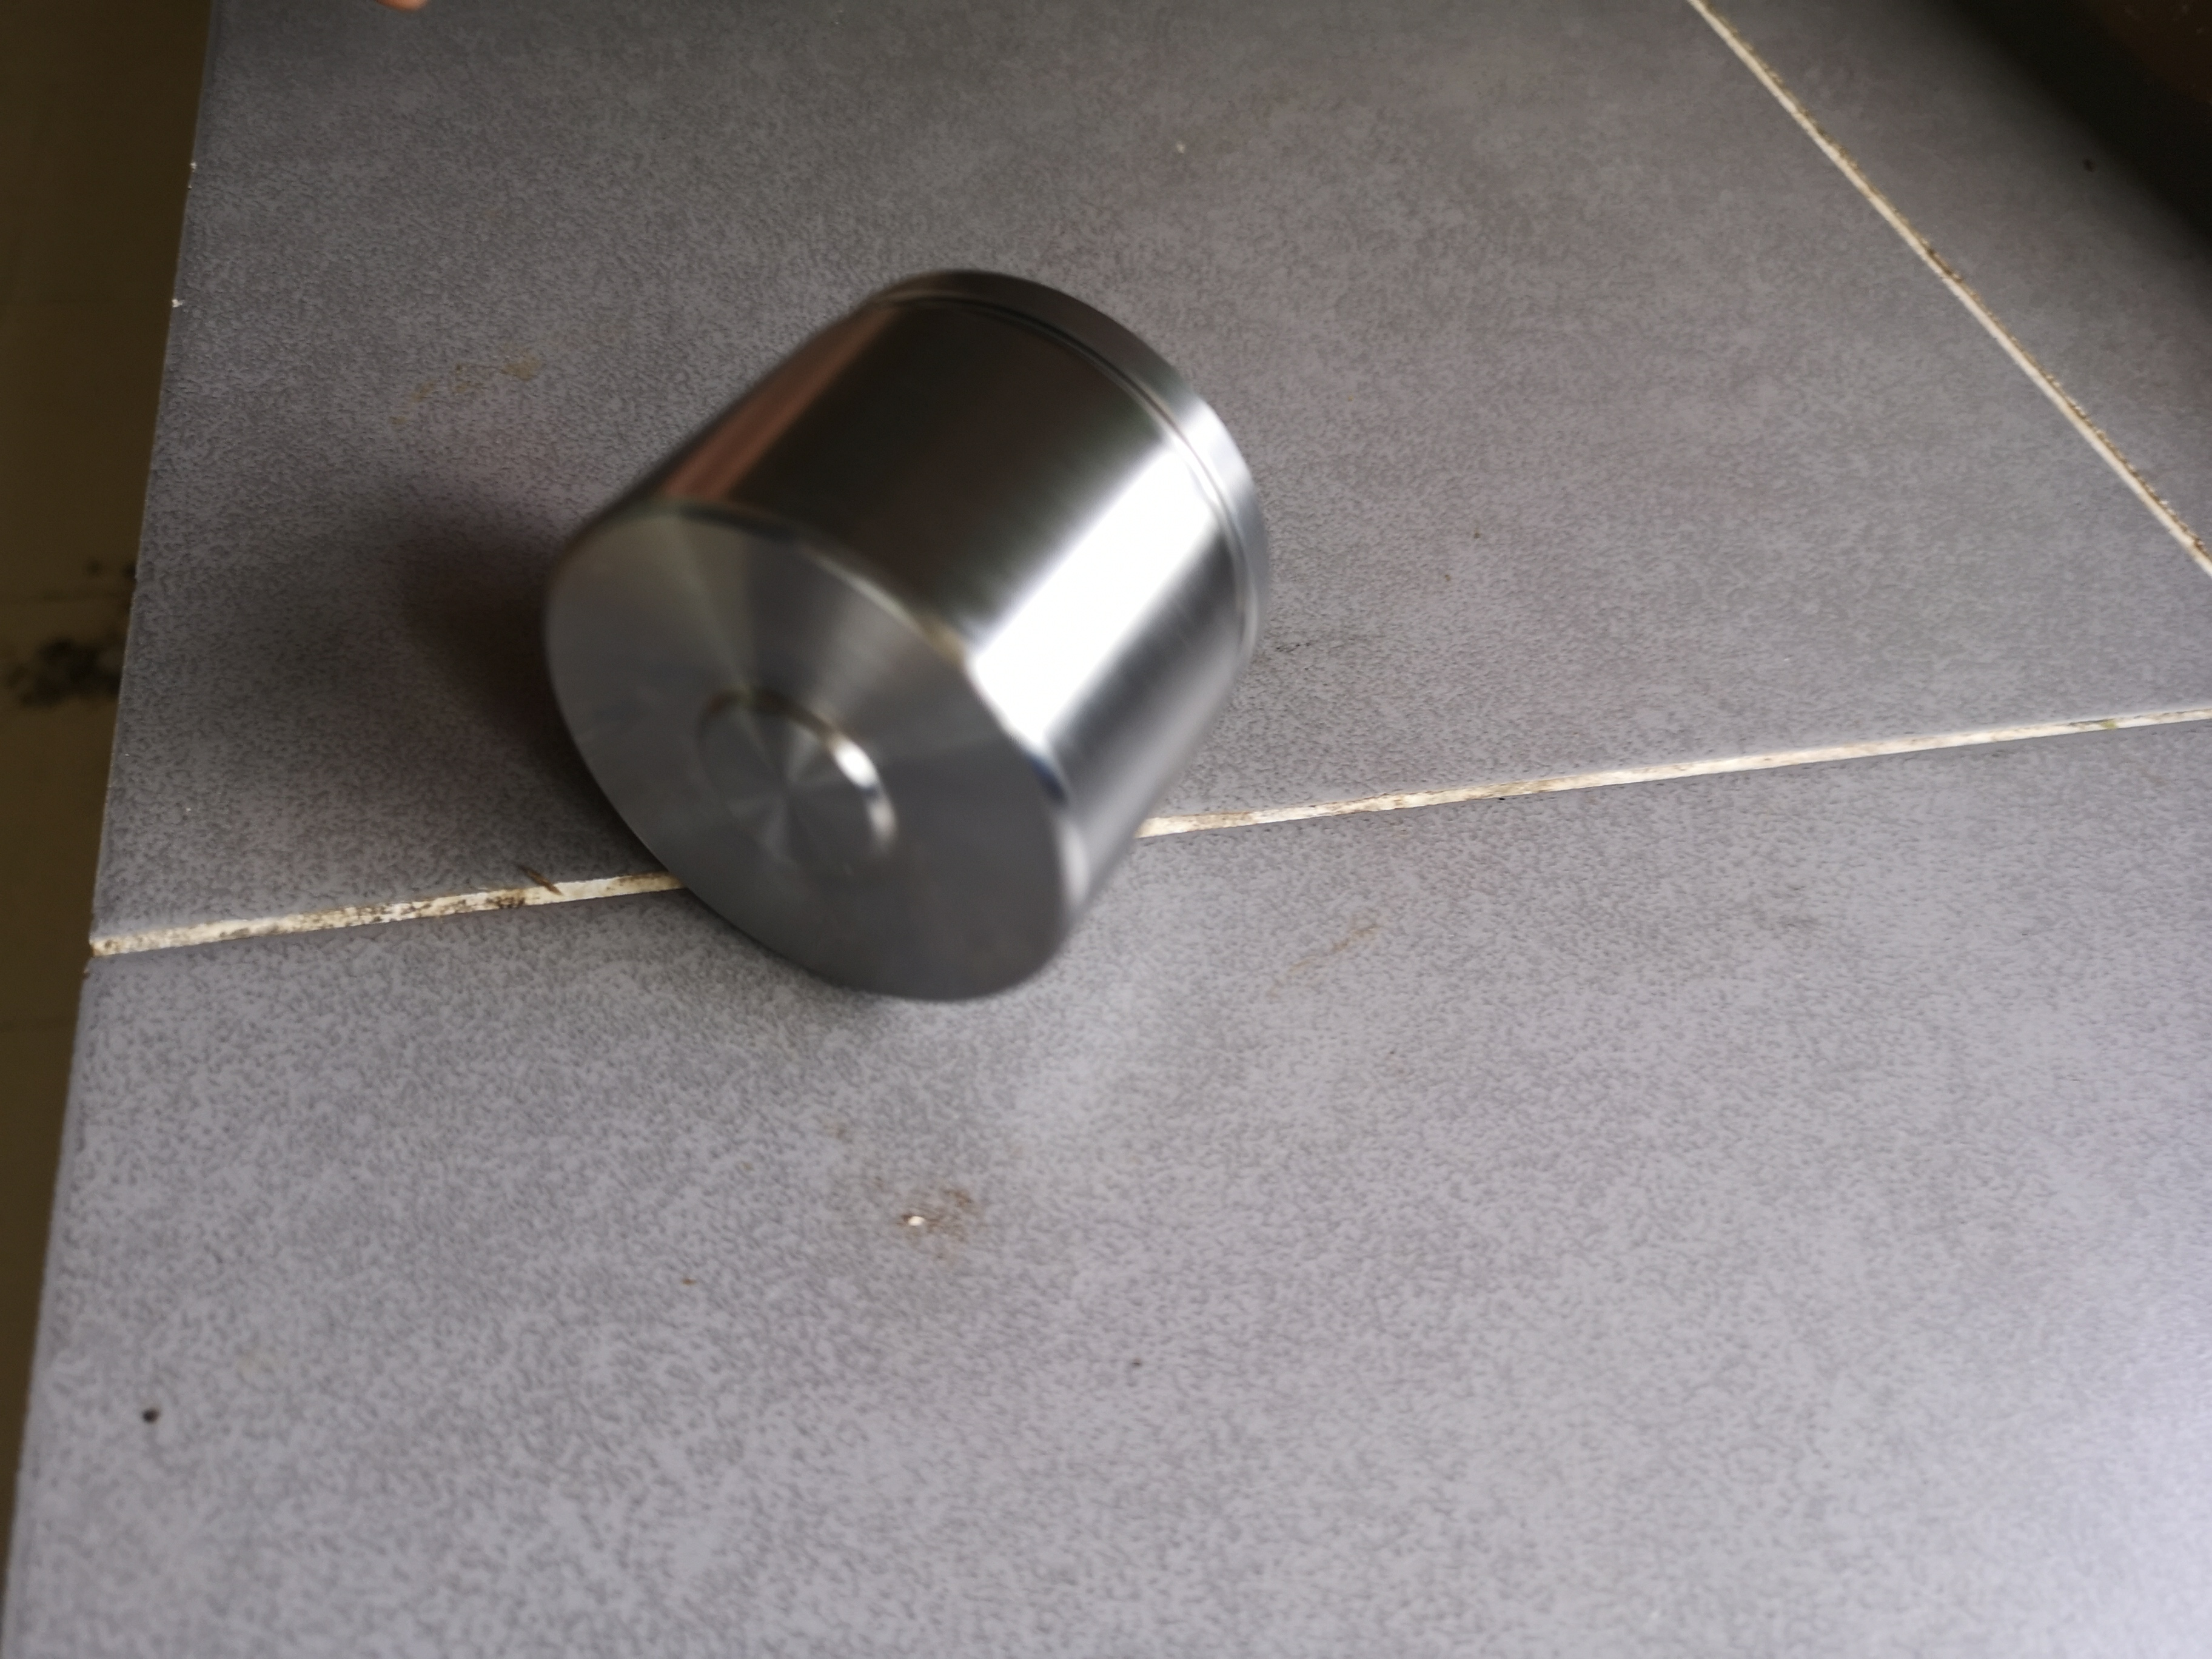ลูกสูบดิสเบรค: (531, 256, 1285, 1028)
